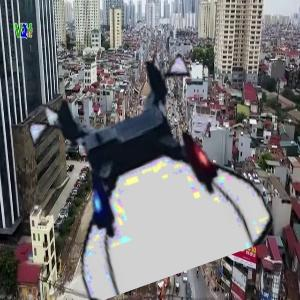drone: (33, 60, 254, 281)
